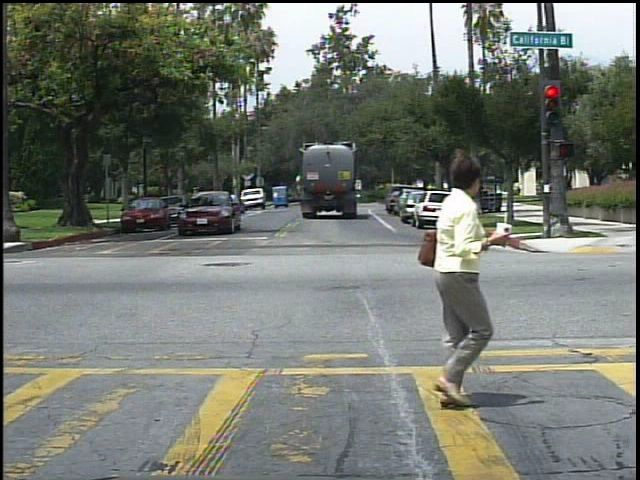person: (394, 141, 514, 413), (513, 180, 526, 199)
